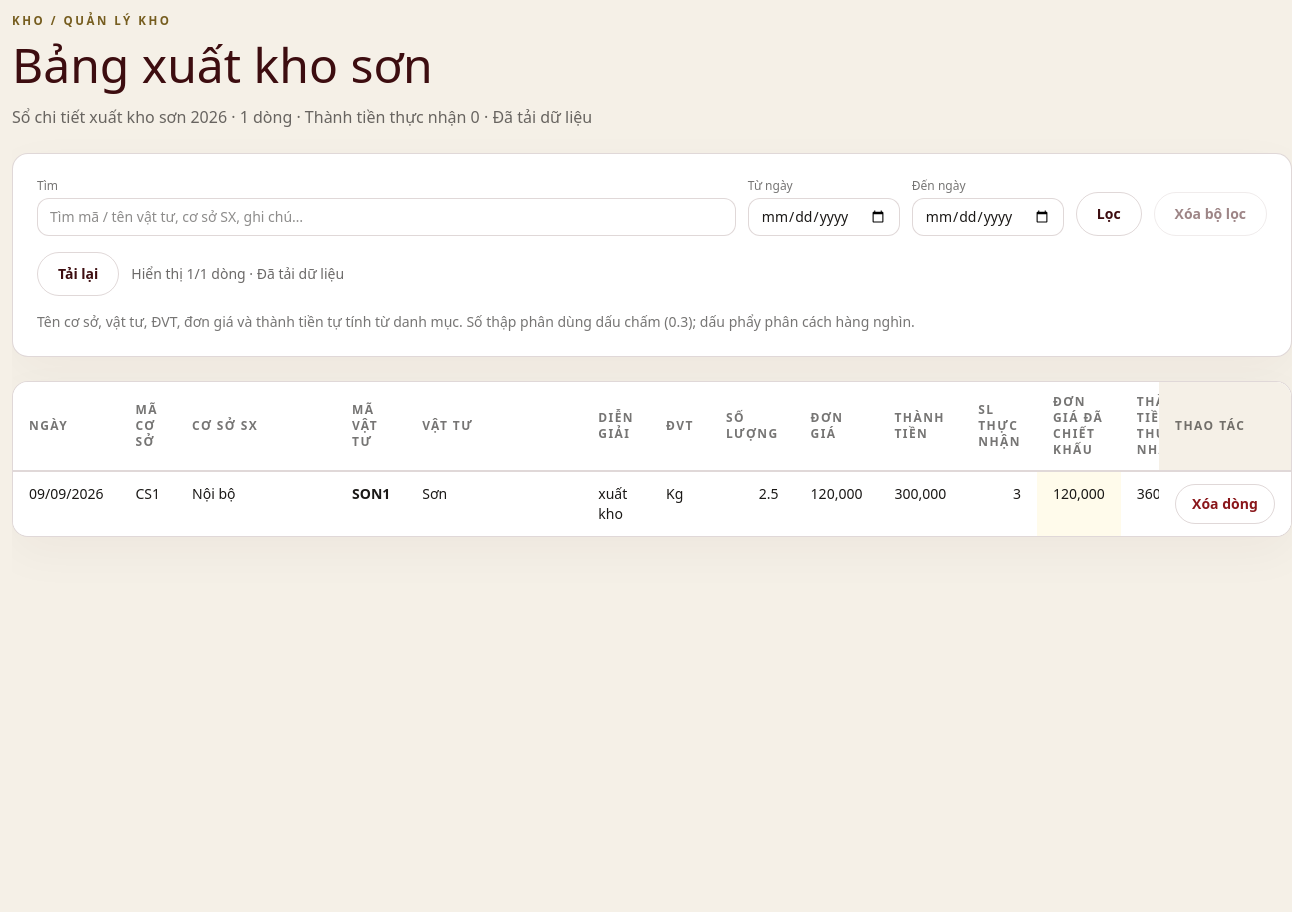
Test case: bảng xuất kho sơn page › asks before deleting a dòng and only sends DELETE once confirmed
The width and height of the screenshot is (1292, 912).
Click the button "Xóa dòng" at (1225, 504), box [1175, 484, 1275, 524]
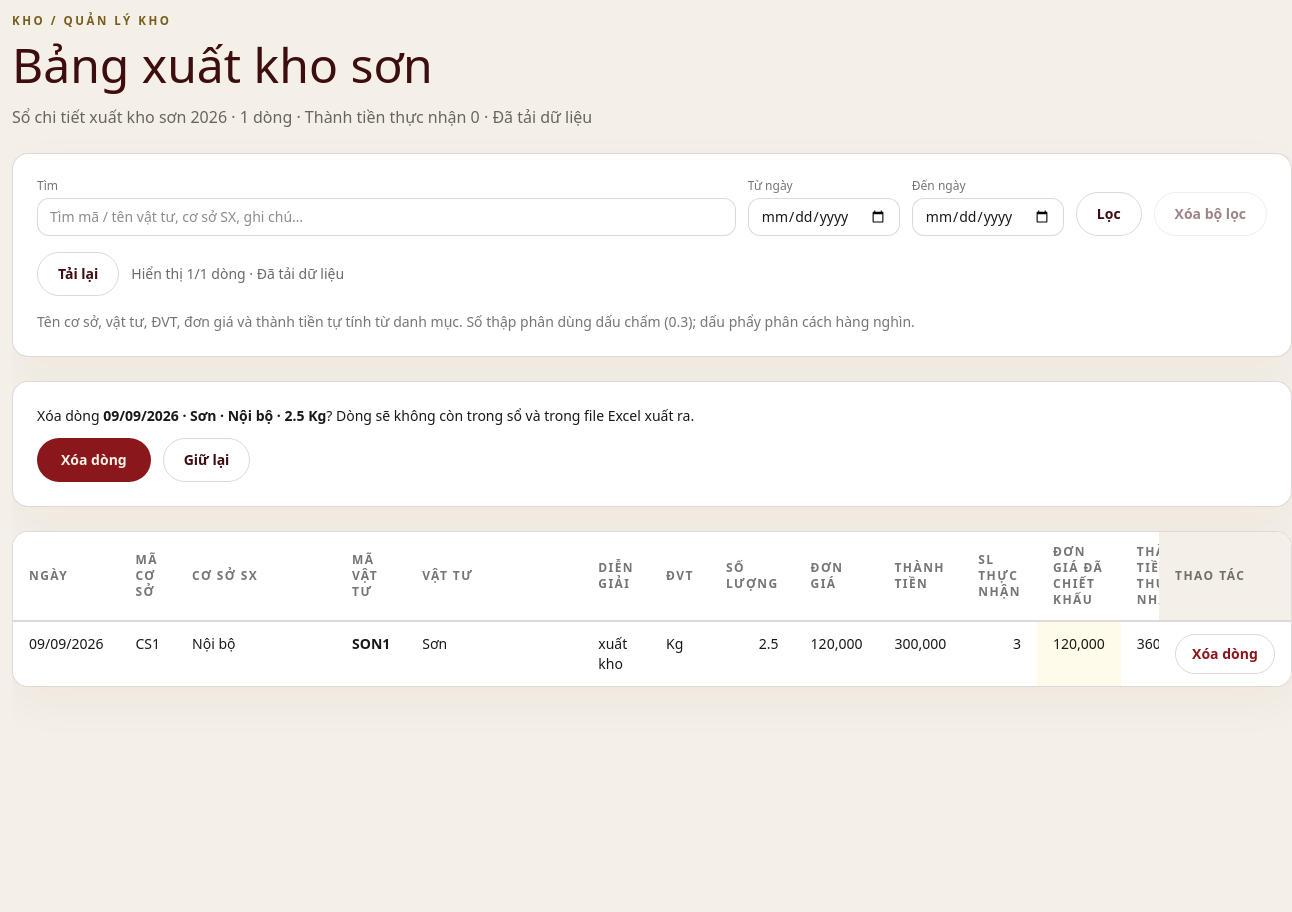
Check: the element named "Xác nhận xóa dòng" shows "09/09/2026 · Sơn · Nội bộ · 2.5 Kg", box [103, 406, 326, 425]
Click the button "Xóa dòng" below "09/09/2026 · Sơn · Nội bộ · 2.5 Kg" at (94, 460), box [37, 438, 151, 482]
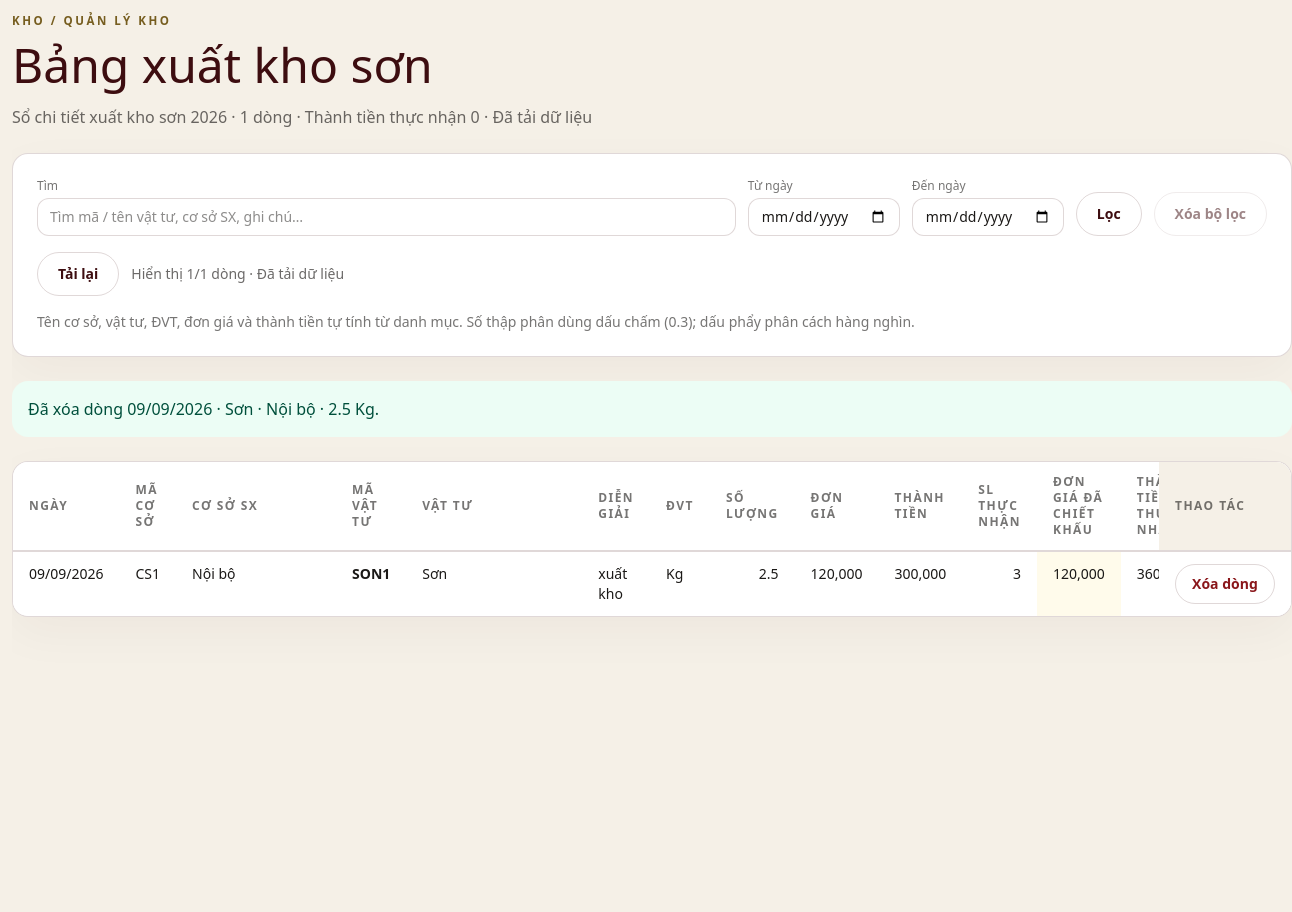
Check: the text "Đã xóa dòng 09/09/2026 · Sơn · Nội bộ · 2.5 Kg." is shown, box [12, 381, 1291, 437]
